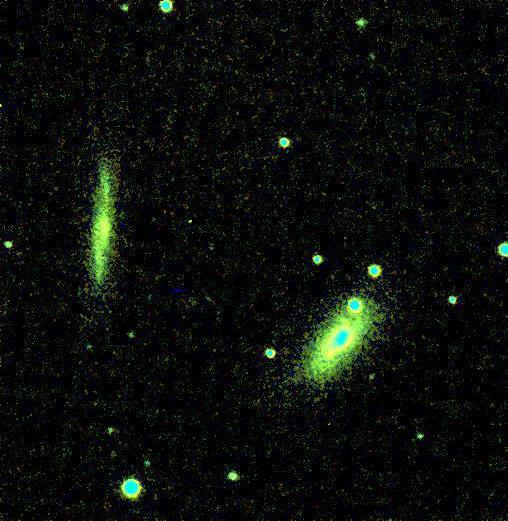star: (176, 206, 206, 236)
